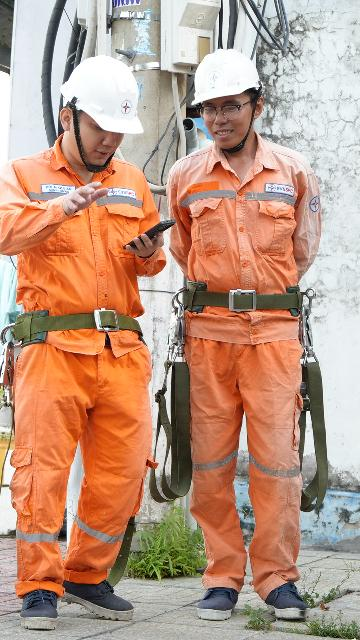harness: (163, 271, 316, 331), (0, 302, 154, 344)
helmet: (54, 55, 150, 140), (181, 47, 266, 113)
shoes: (60, 560, 142, 627), (248, 556, 317, 631), (192, 560, 252, 630), (11, 565, 64, 635)
